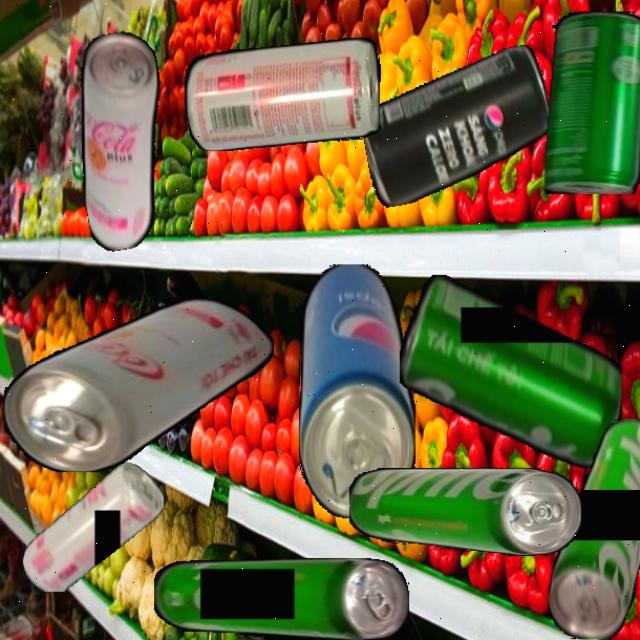debris: (3, 298, 274, 472), (399, 274, 622, 468), (354, 43, 561, 209), (298, 264, 415, 518), (58, 27, 188, 254), (184, 37, 380, 151), (153, 558, 409, 640), (547, 417, 640, 639), (348, 468, 582, 556), (22, 462, 164, 592), (543, 12, 640, 194)
